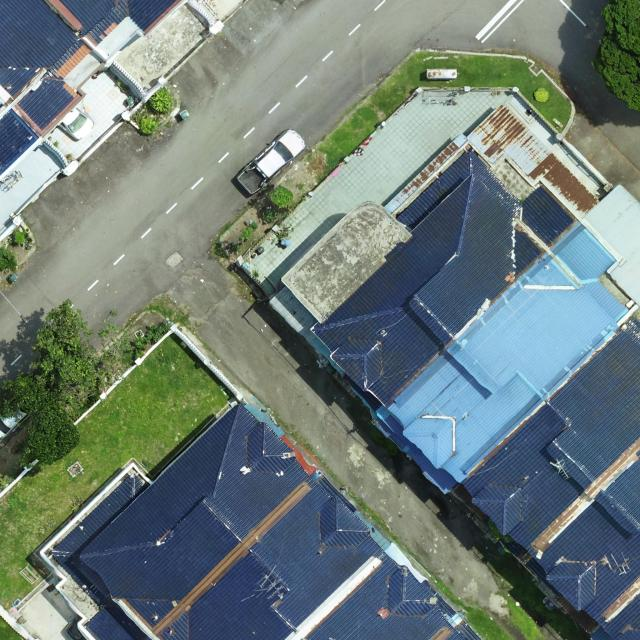Tree: (30, 296, 125, 421), (0, 372, 81, 465), (589, 0, 640, 113), (148, 86, 172, 112), (268, 186, 294, 207), (138, 116, 158, 135)
